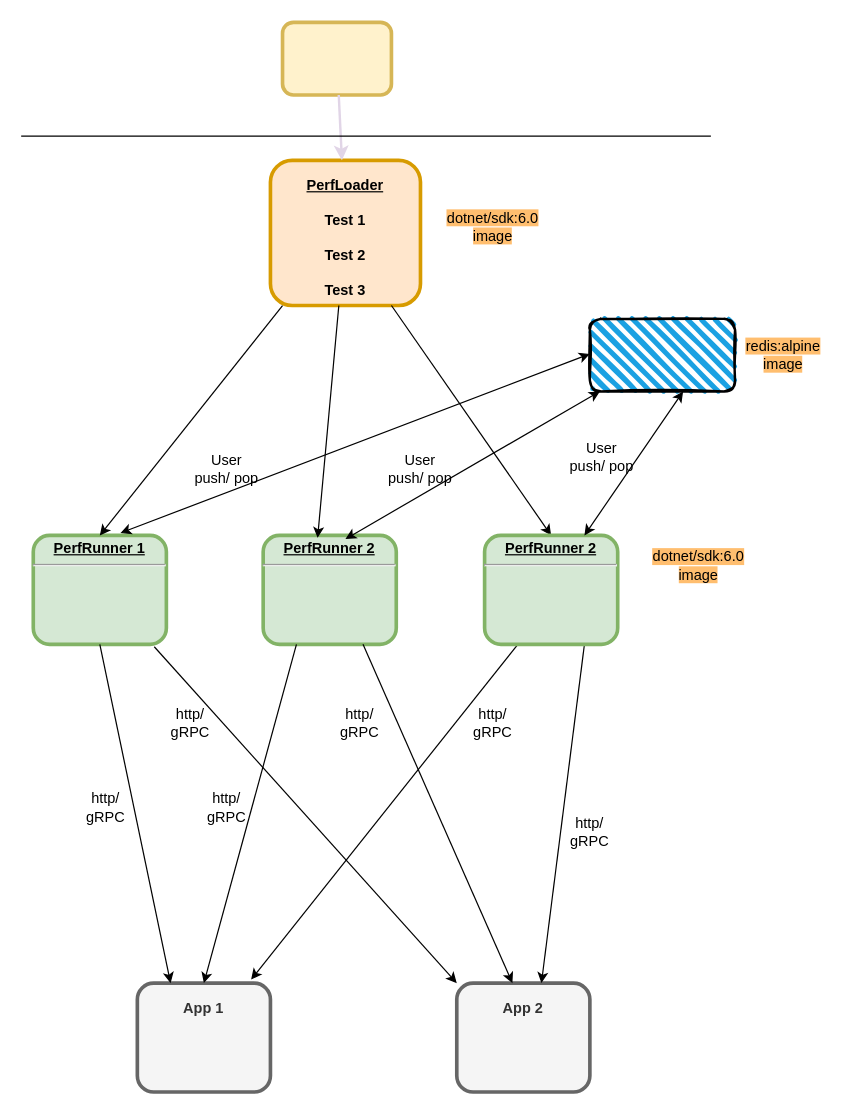
This 841x1114 diagram has some shape labels left out. Here are the shapes that lost their labels. From the top down, the centre of each, then its label:
At (336,58): "User".
At (662,354): "Redis Cache User(s)".
